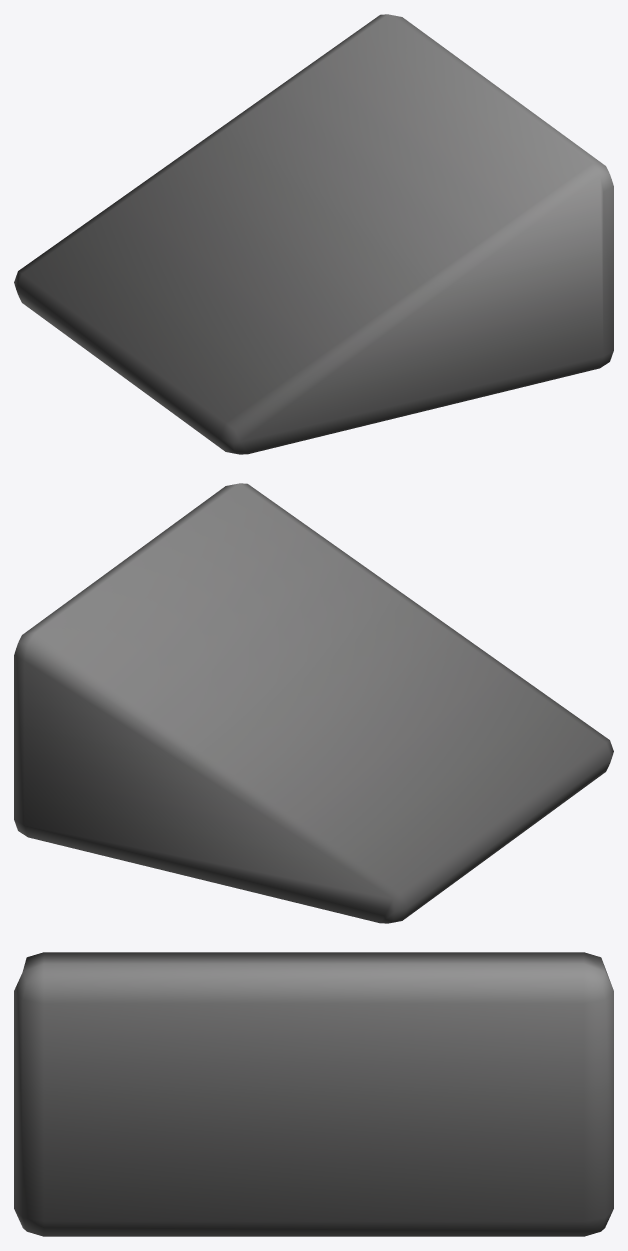
File: 3D_Tile_Dungeon_Slope_01B.fbx
3 views of the same model, one above another, from view 1: azimuth 30°, elevation 25°; view 2: azimuth 150°, elevation 25°; view 3: azimuth 270°, elevation 25° (orthographic). The views are drawn at different scales.
Parts seen in each view (by area): view 1: 3D_Tile_Dungeon_Slope_01B; view 2: 3D_Tile_Dungeon_Slope_01B; view 3: 3D_Tile_Dungeon_Slope_01B.
Boxes of the visible parts, bbox=[...] form: 3D_Tile_Dungeon_Slope_01B: bbox=[14, 14, 613, 454]; 3D_Tile_Dungeon_Slope_01B: bbox=[14, 483, 613, 923]; 3D_Tile_Dungeon_Slope_01B: bbox=[14, 952, 613, 1236].
Size of the model in its own units: 200 by 100 by 200.
